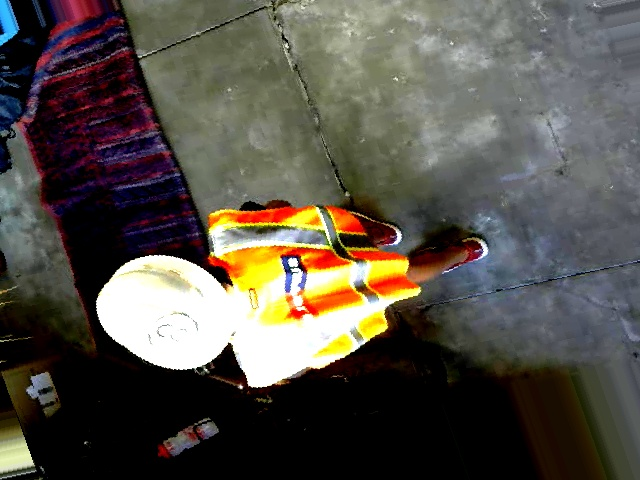eight: (139, 308, 204, 354)
